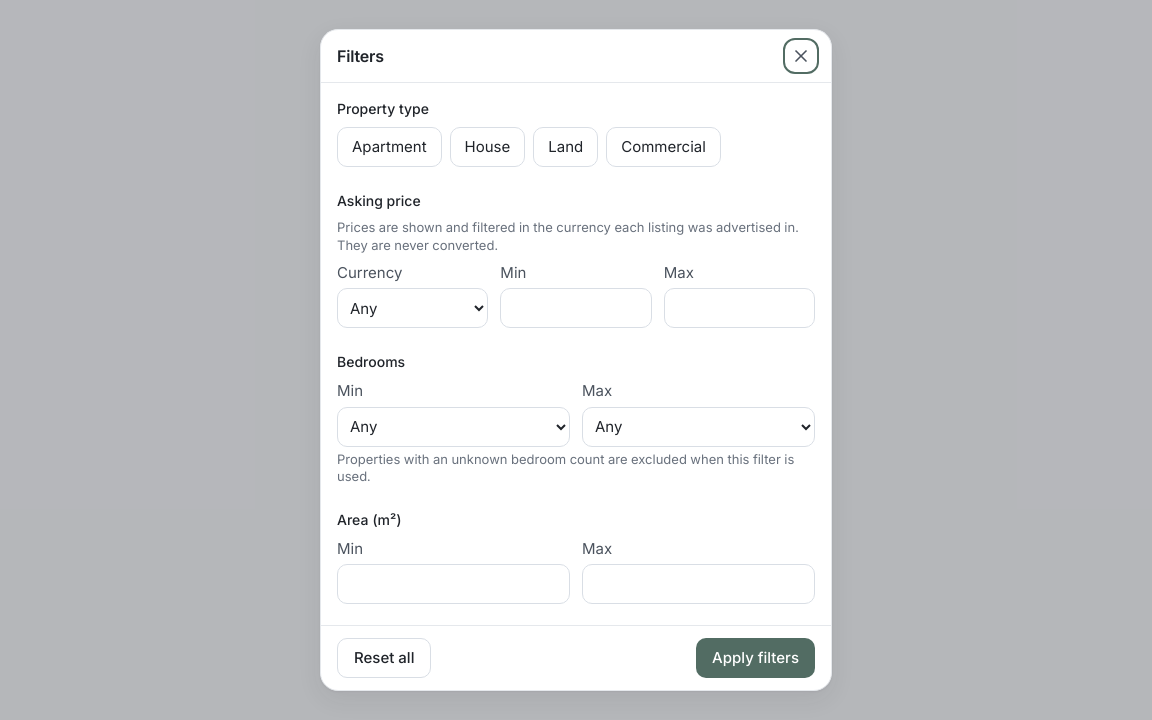
Test case: FilterSheet › requires a currency for price and blocks Apply
This screenshot has width=1152, height=720.
Type "100" into the number field labelled "Min" below "Asking price" at [576, 308], box [500,288,652,328]
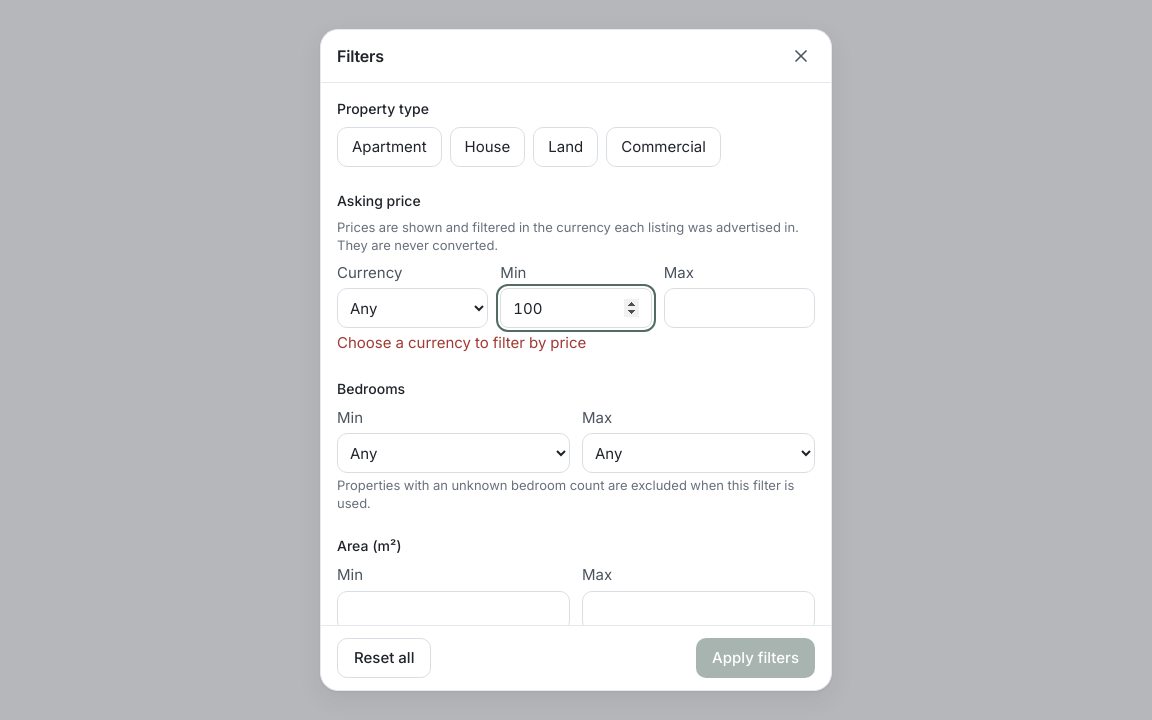
expect the message shows "currency": met, box [337,334,586,352]
expect the button "Apply filters" is disabled: met, box [696,638,815,678]
Select "USD" in the dropdown labelled "Currency" at [413, 308], box [337,288,488,328]
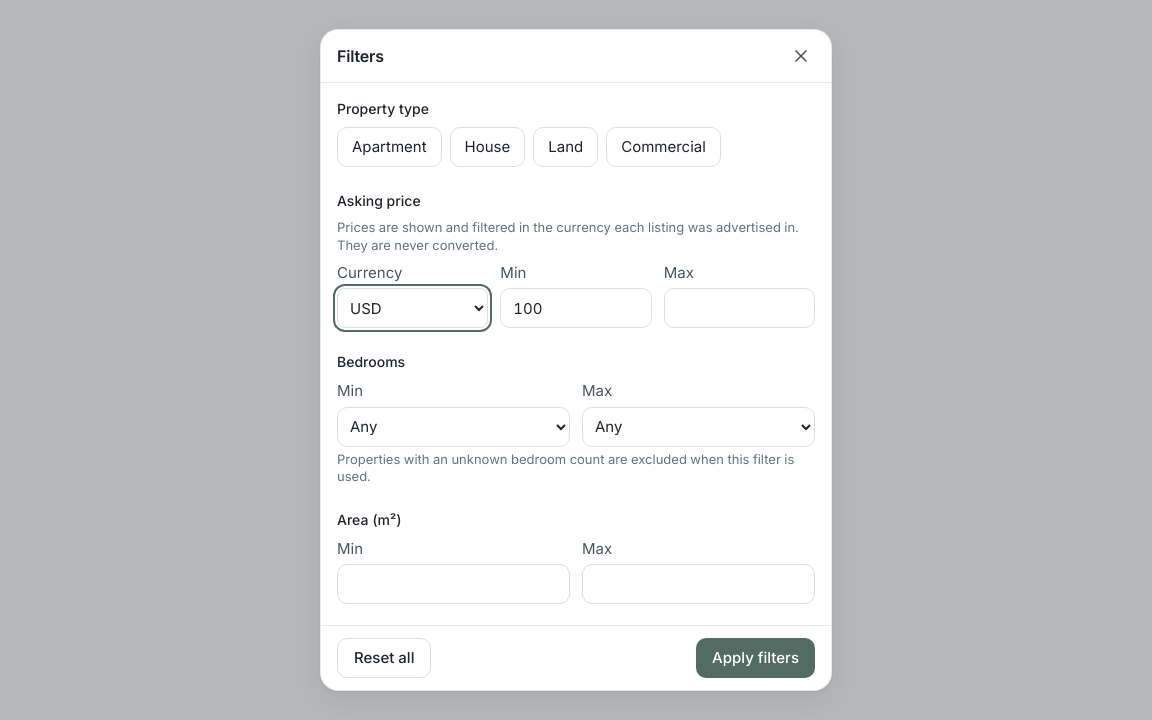
expect the button "Apply filters" is enabled: met, box [696,638,815,678]
